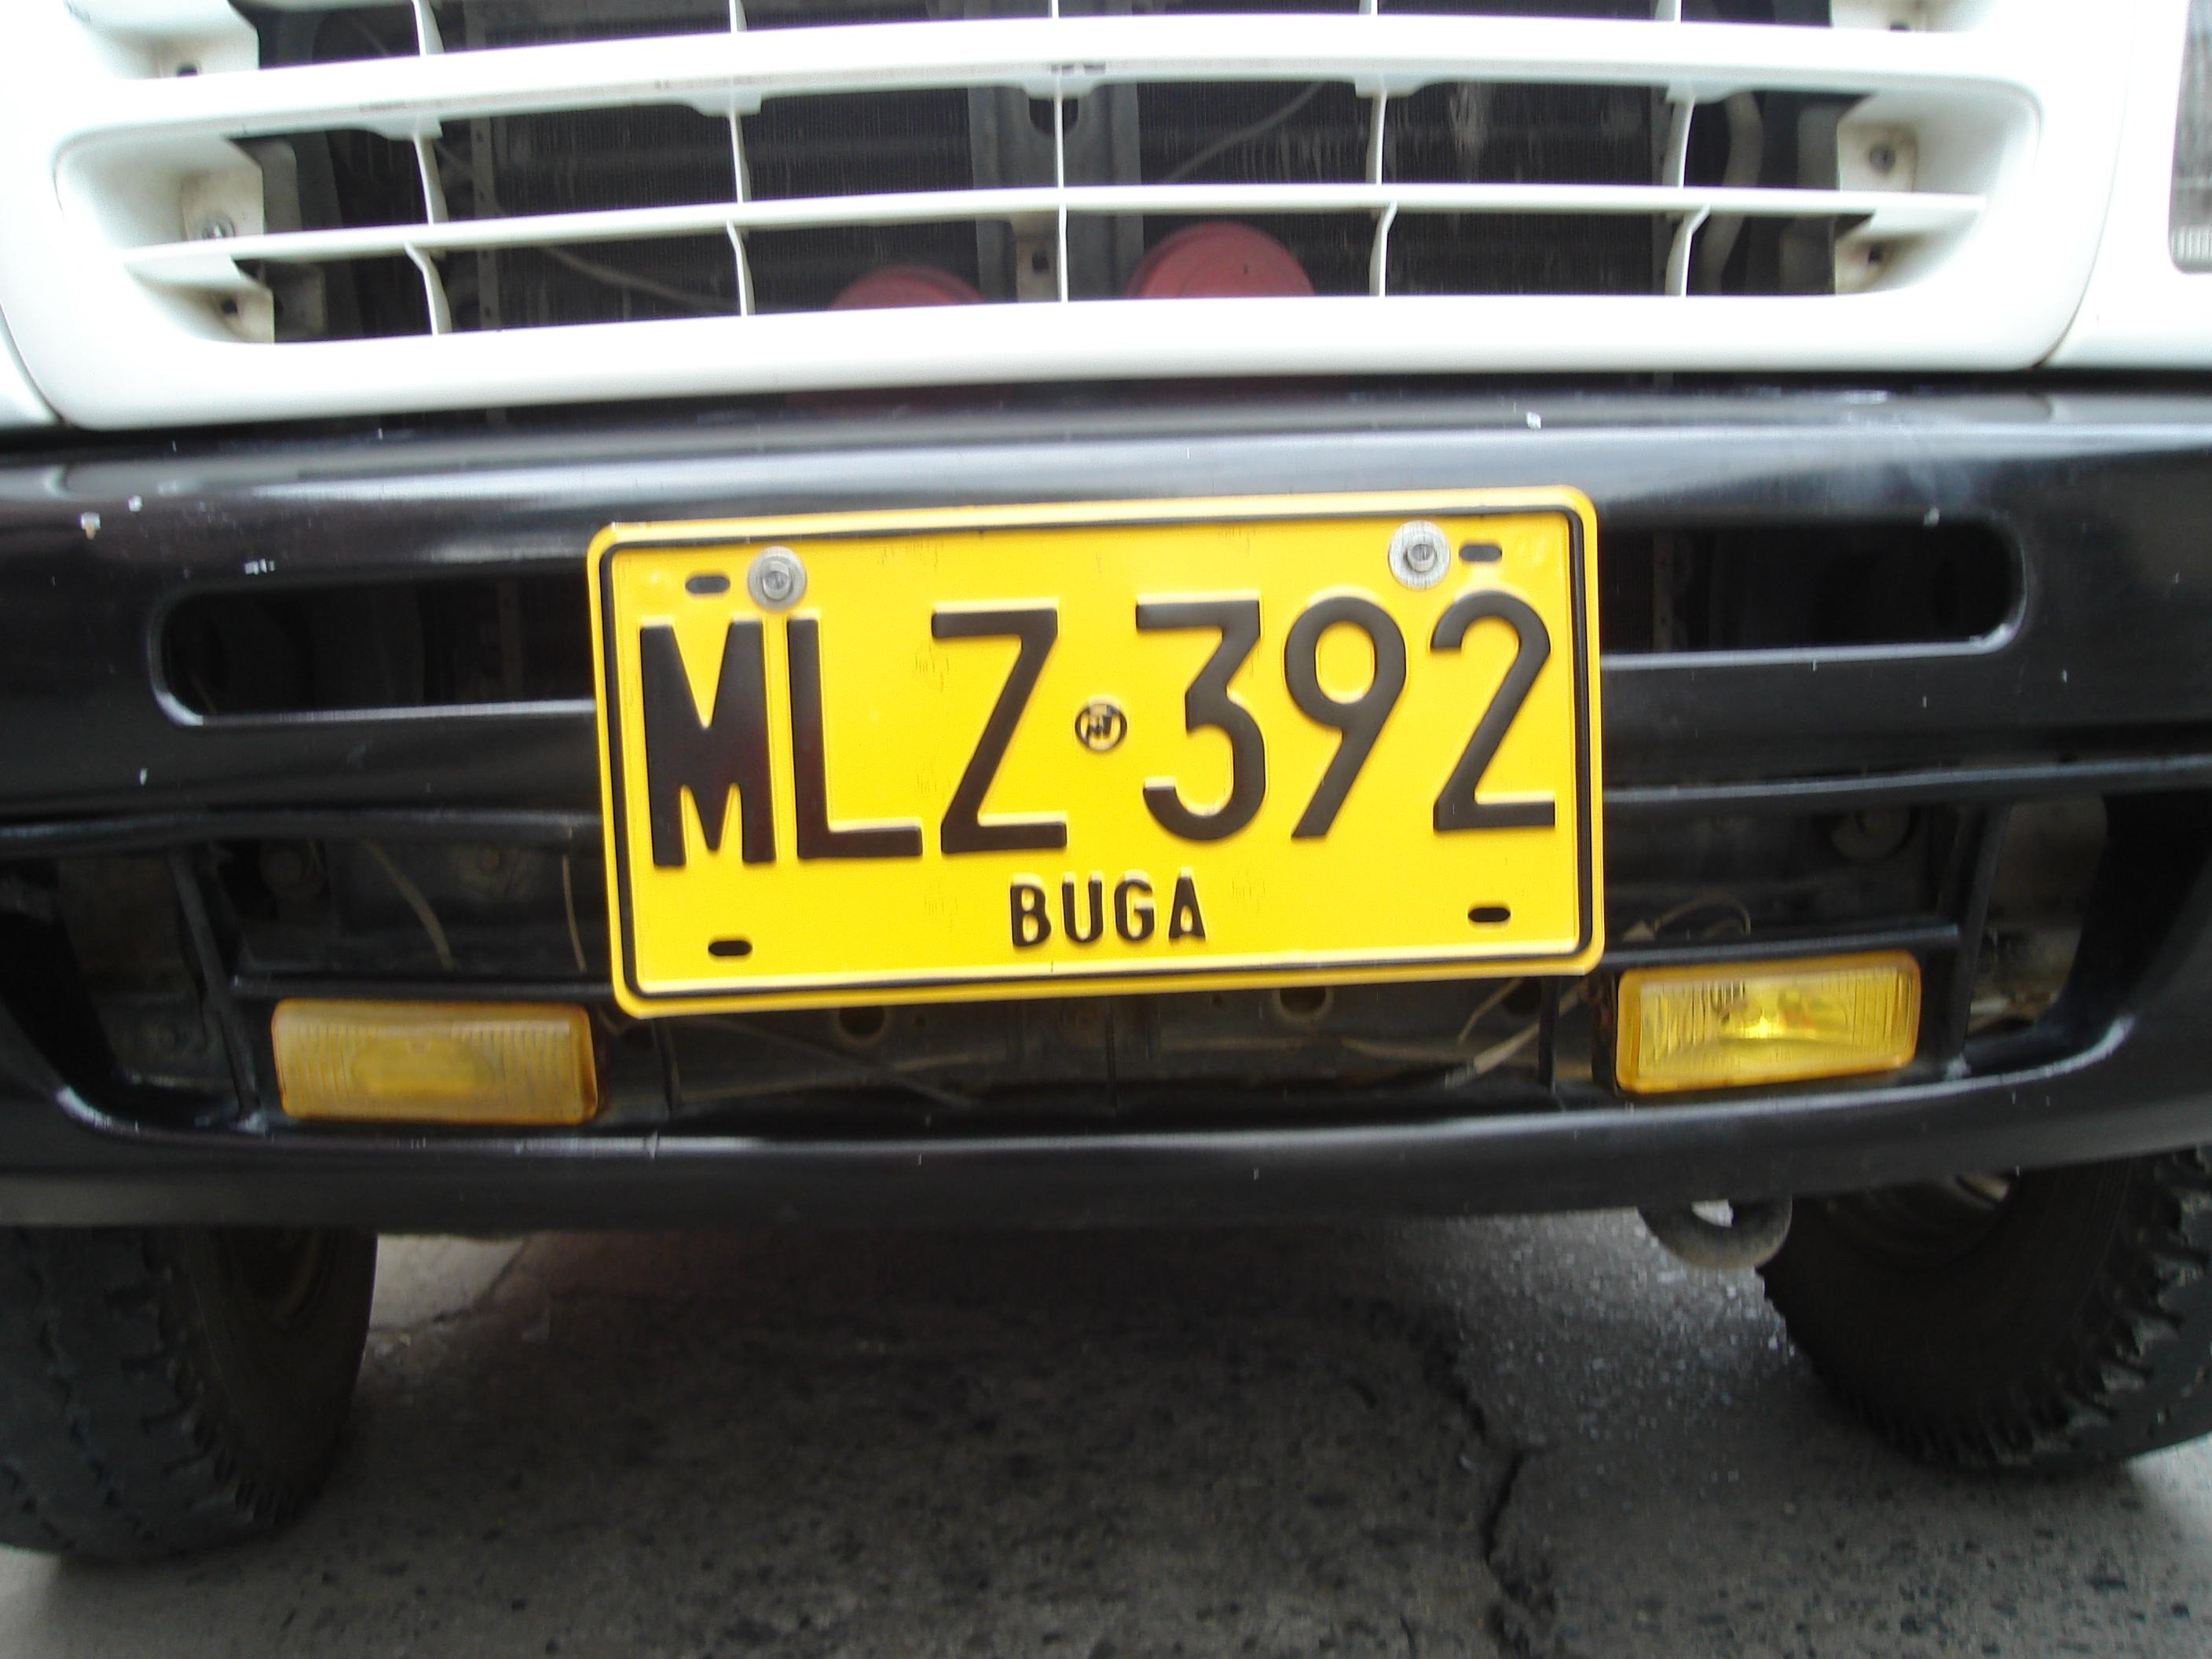placas: (567, 477, 1629, 1038)
